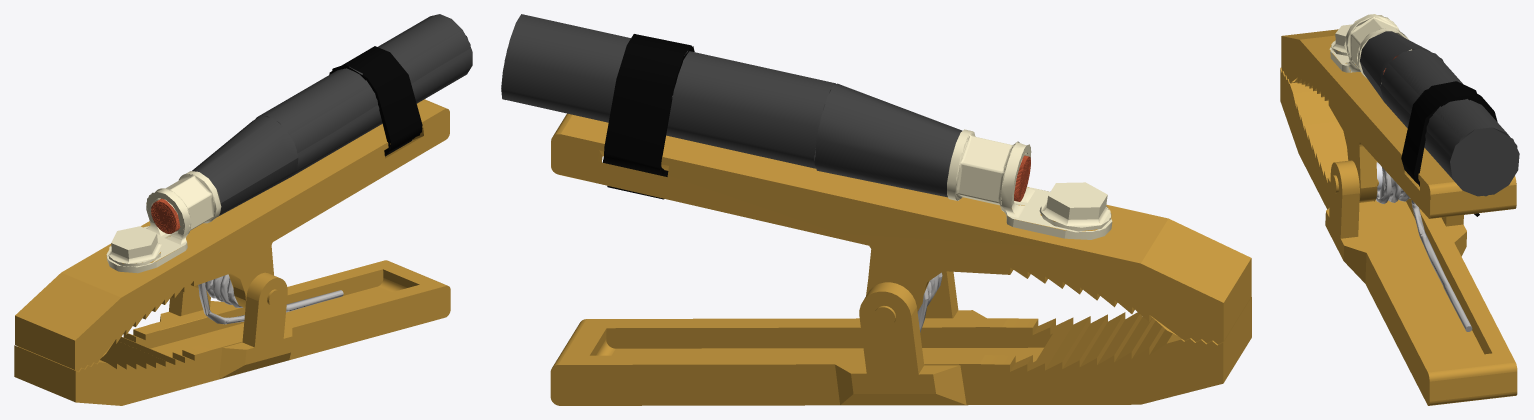
The model's file is WeldClamp2.glb.
3 renders of one model, left to right at view 1: azimuth 30°, elevation 25°; view 2: azimuth 150°, elevation 25°; view 3: azimuth 270°, elevation 25°, orthographic. The views are drawn at different scales.
Visible parts, largest first — view 1: Welding Earth Clamp-1; view 2: Welding Earth Clamp-1; view 3: Welding Earth Clamp-1.
Part boxes in pixels (bbox=[...]): Welding Earth Clamp-1: bbox=[14, 14, 472, 405]; Welding Earth Clamp-1: bbox=[501, 14, 1251, 405]; Welding Earth Clamp-1: bbox=[1280, 14, 1519, 405].
Bounding box in the file's own units: 0.1668 × 0.088 × 0.0657.
